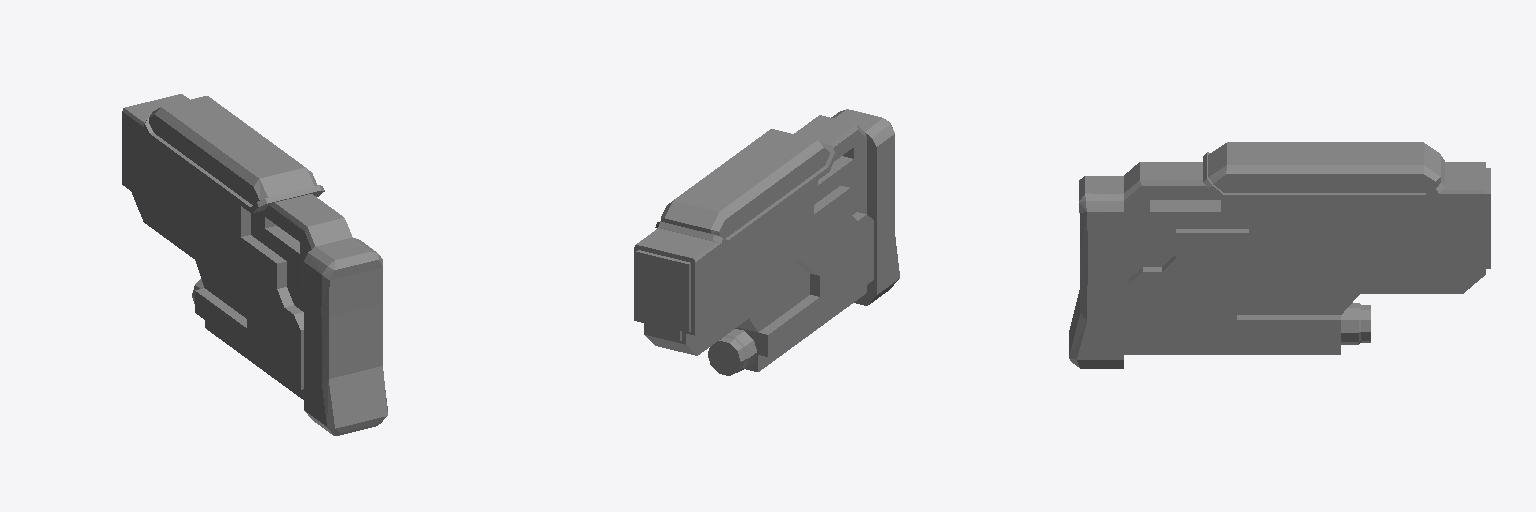
Rendered from stock2.obj.
3 renders of one model, left to right at view 1: azimuth 30°, elevation 25°; view 2: azimuth 150°, elevation 25°; view 3: azimuth 270°, elevation 25°, orthographic.
Visible parts, largest first — view 1: stock2; view 2: stock2; view 3: stock2.
Boxes of the visible parts, x1,y1,x2,y2 form: stock2: [122, 94, 387, 435]; stock2: [634, 109, 899, 375]; stock2: [1069, 142, 1490, 368].
Bounding box in the file's own units: 5.11 × 15.08 × 28.19.